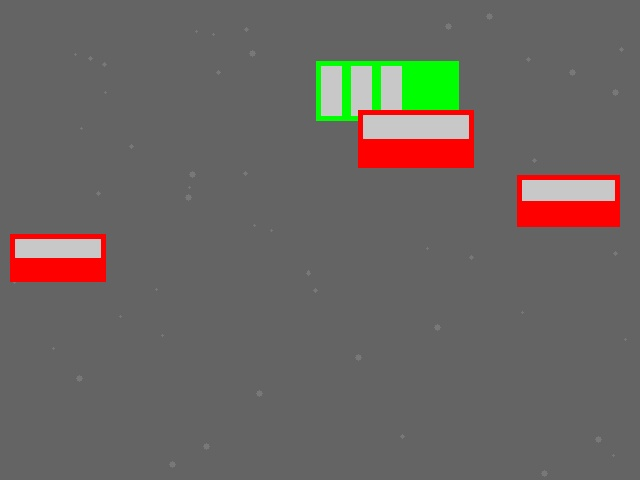bus: (316, 61, 458, 120)
car: (358, 110, 473, 167), (517, 175, 619, 226), (10, 234, 105, 281)
